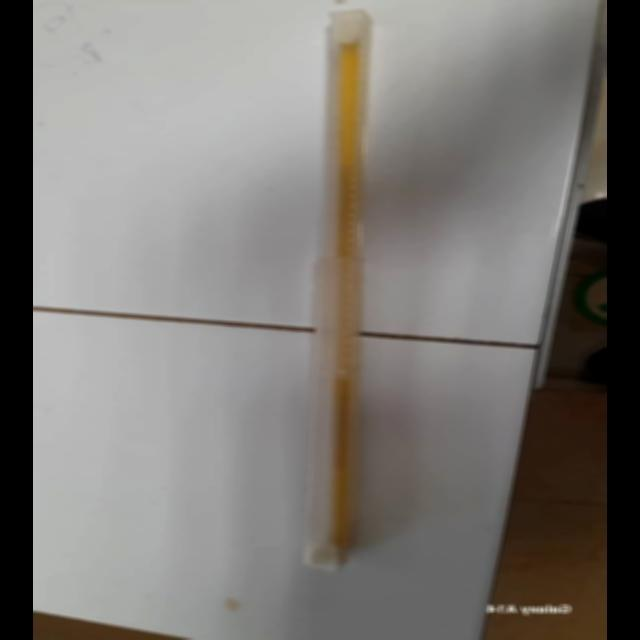Thermometer: (304, 4, 372, 582)
